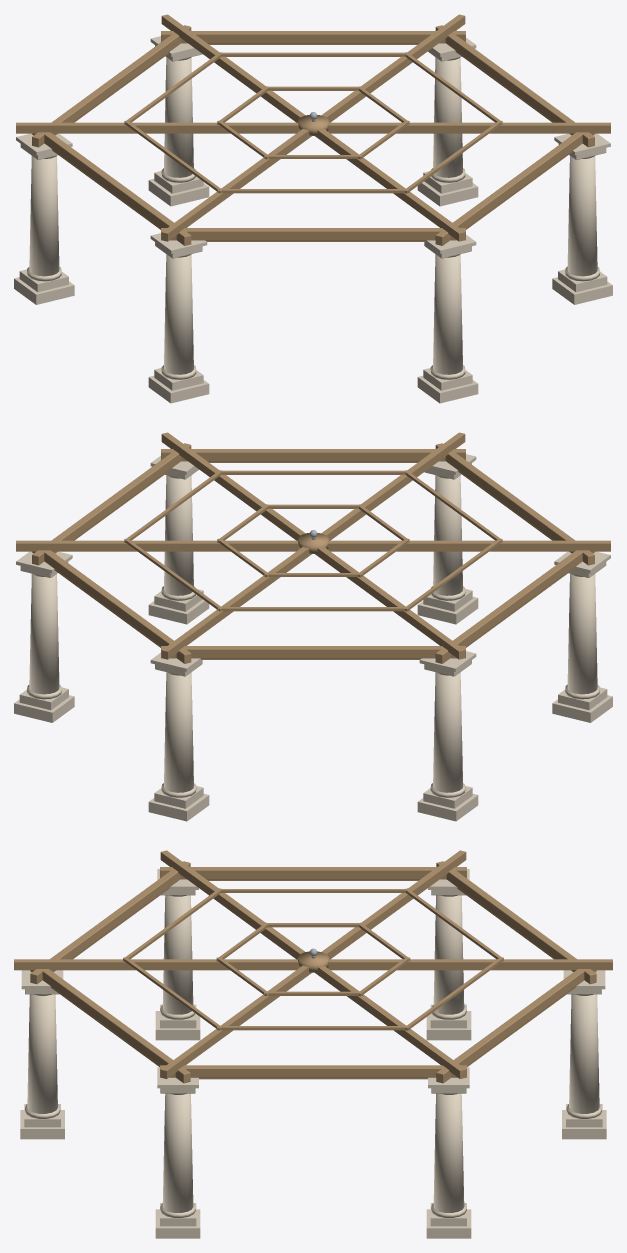
Rendered from park_pergola.glb.
3 renders of one model, top to bottom at view 1: azimuth 30°, elevation 25°; view 2: azimuth 150°, elevation 25°; view 3: azimuth 270°, elevation 25°, orthographic.
Parts seen in each view (by area): view 1: Merged_PropsWood, Merged_VillaStone; view 2: Merged_PropsWood, Merged_VillaStone; view 3: Merged_PropsWood, Merged_VillaStone.
Boxes of the visible parts, <box> form: Merged_PropsWood: <box>16,14,610,245</box>; Merged_VillaStone: <box>14,30,612,403</box>; Merged_PropsWood: <box>16,432,610,663</box>; Merged_VillaStone: <box>14,448,612,821</box>; Merged_PropsWood: <box>14,850,612,1083</box>; Merged_VillaStone: <box>20,869,606,1238</box>.
Bounding box in the file's own units: 10.03 × 3.84 × 11.5.
